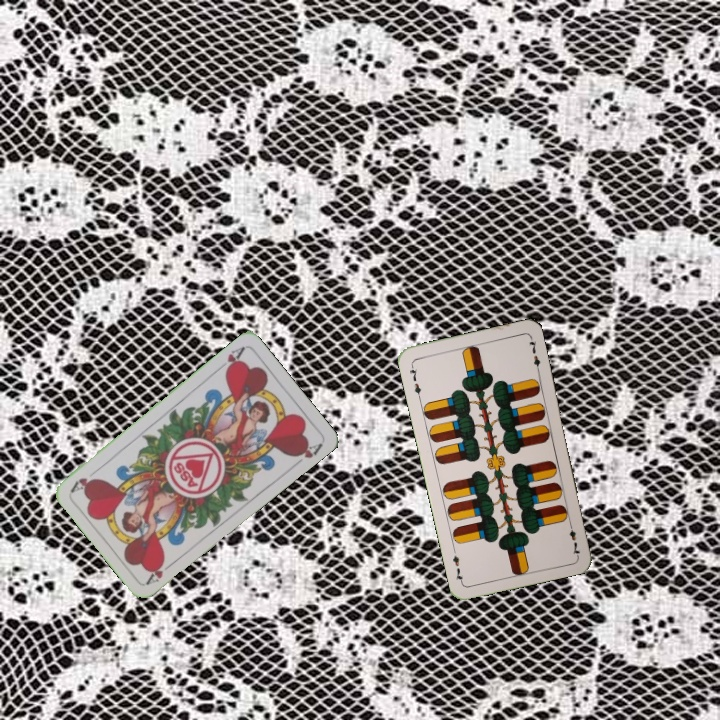E7: (406, 361, 424, 401), (565, 518, 582, 558)
HA: (213, 343, 247, 376), (143, 556, 177, 587)
